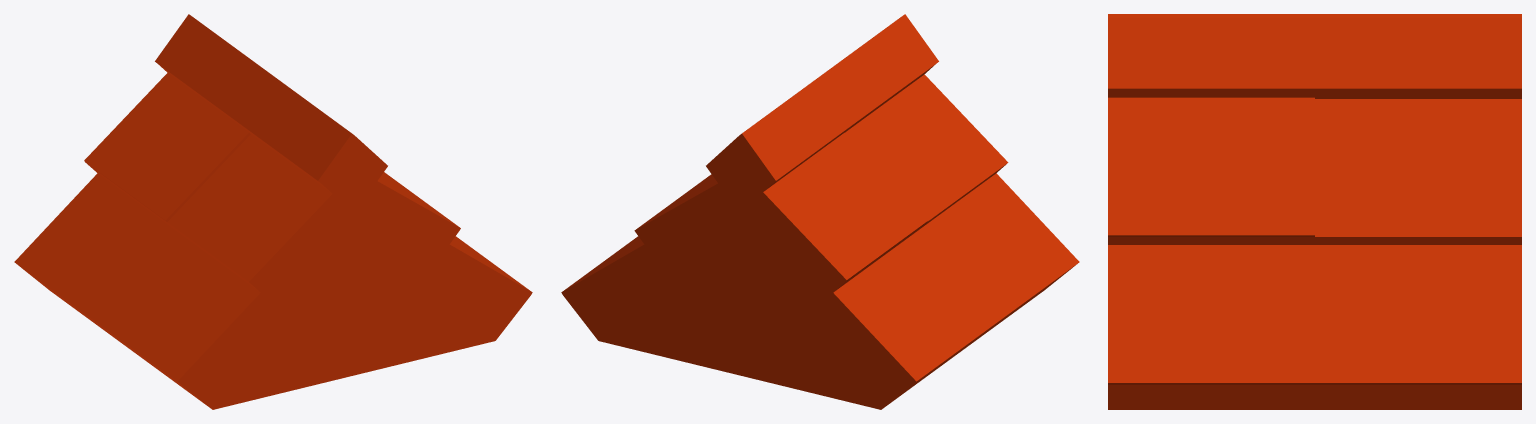
The model's file is Building_Modular_Roof_Piece_03.fbx.
The picture shows the model from 3 angles, left to right: view 1: azimuth 30°, elevation 25°; view 2: azimuth 150°, elevation 25°; view 3: azimuth 270°, elevation 25°; orthographic projection. The views are drawn at different scales.
Parts seen in each view (by area): view 1: Model; view 2: Model; view 3: Model.
Part boxes in pixels (box(x1,y1,x2,y2)): Model: box(14, 14, 532, 409); Model: box(561, 14, 1079, 409); Model: box(1108, 14, 1521, 409).
Bounding box in the file's own units: 267 × 174 × 212.
